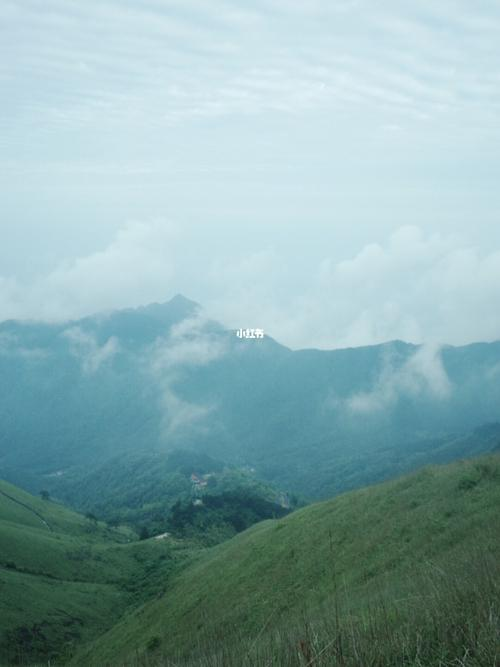mountain: (0, 288, 499, 532), (149, 446, 499, 661)
